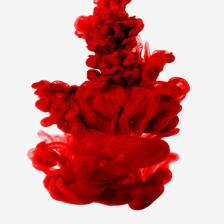red: (53, 0, 167, 201)
